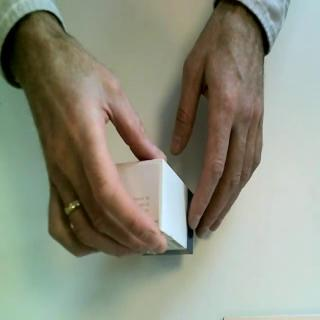sobril25mg: (114, 157, 196, 258)
